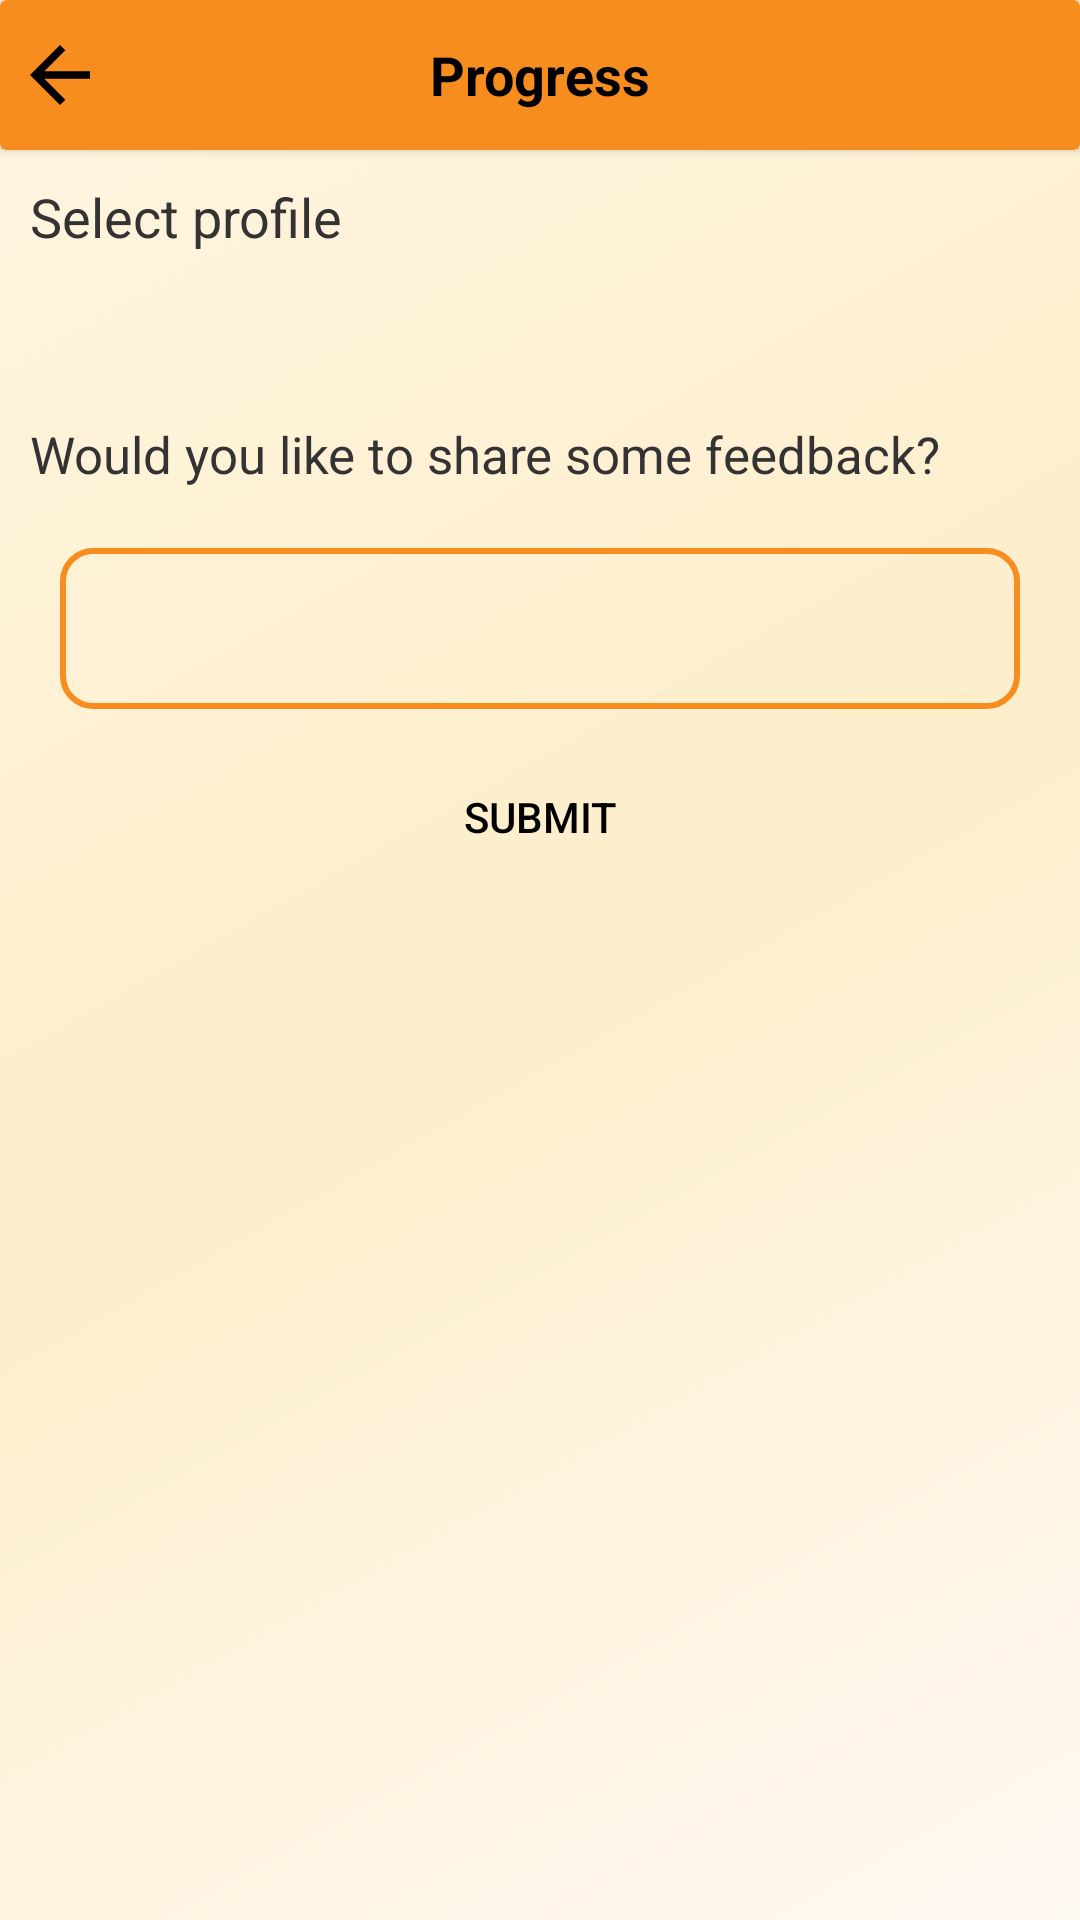

Icon click points for this 1080px x 1920px phone screenshot, format (x,y):
arrow back: (60,75)
